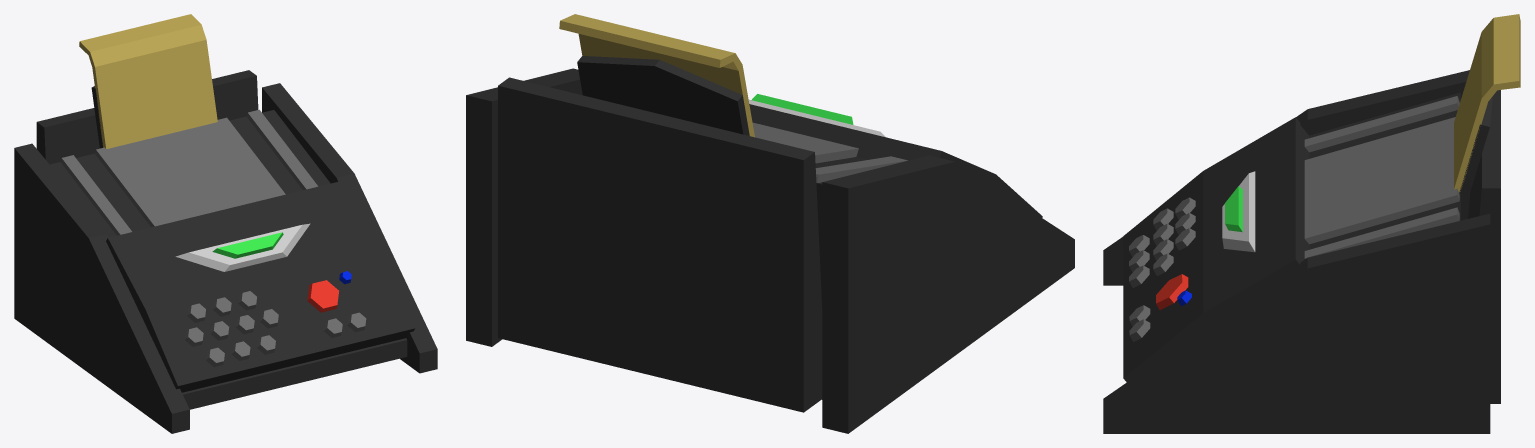
File: fax.fbx
3 views of the same model, side by side, from view 1: azimuth 30°, elevation 25°; view 2: azimuth 150°, elevation 25°; view 3: azimuth 270°, elevation 25° (orthographic). The views are drawn at different scales.
Parts seen in each view (by area): view 1: Plane.004; view 2: Plane.004; view 3: Plane.004.
Boxes of the visible parts, x1,y1,x2,y2 form: Plane.004: (14,14,437,433); Plane.004: (466,14,1074,433); Plane.004: (1103,14,1520,433).
Size of the model in its own units: 961 by 864 by 1064.
